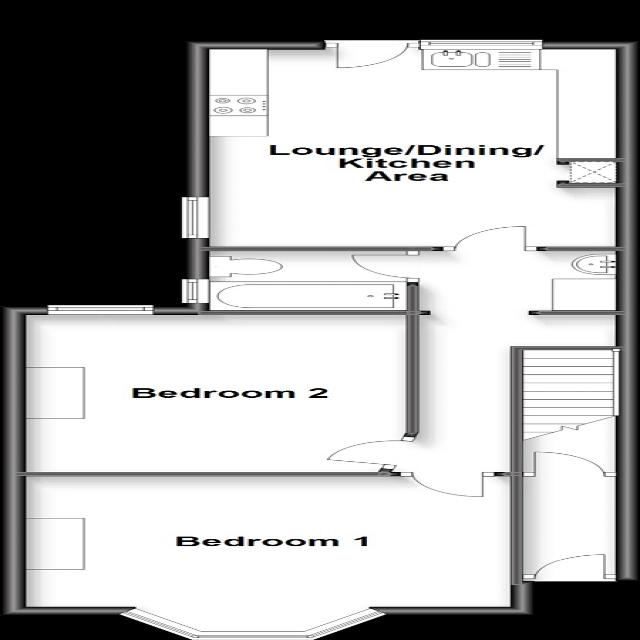DOOR: (323, 435, 417, 470), (322, 39, 421, 68), (519, 450, 619, 477), (517, 553, 620, 579), (397, 472, 498, 498), (439, 225, 540, 251), (350, 250, 420, 283)
ROOM: (180, 39, 640, 252), (0, 471, 533, 640), (0, 304, 421, 477)
WINDOW: (113, 606, 390, 640), (418, 39, 545, 50), (179, 196, 211, 239), (44, 304, 158, 315), (180, 278, 211, 304)
